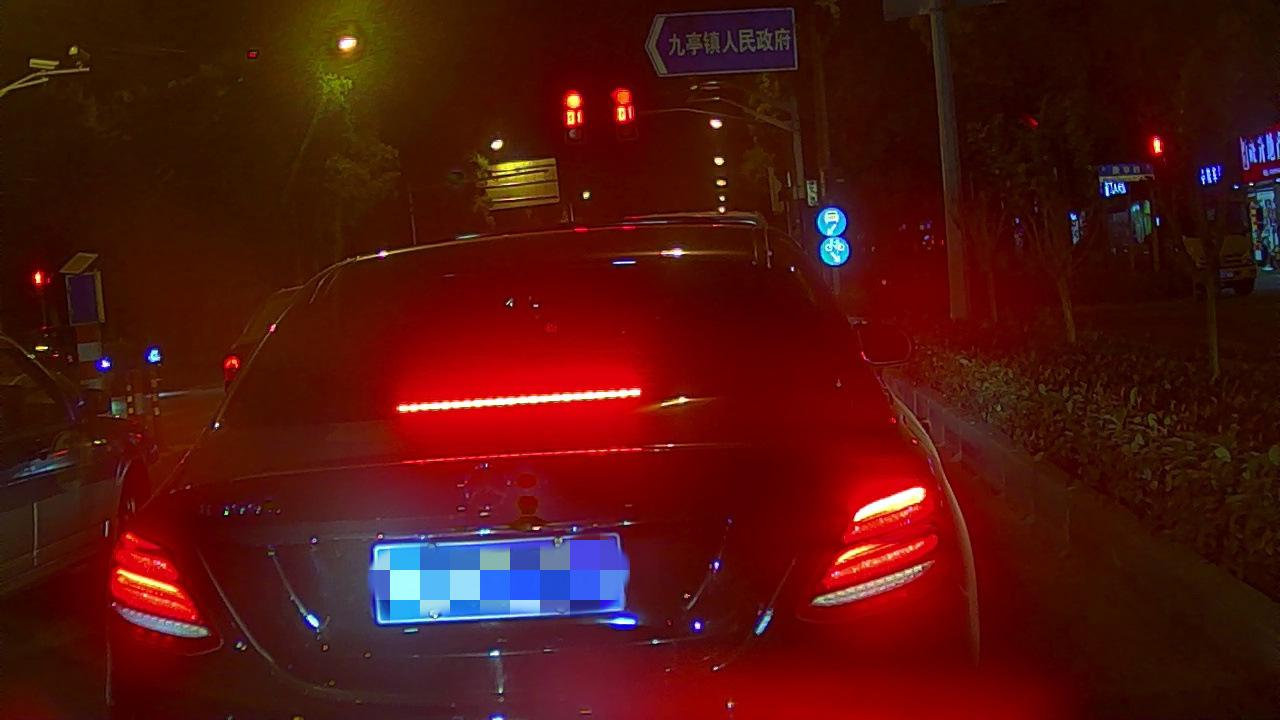traffic_light: (609, 85, 635, 139), (560, 87, 585, 143)
